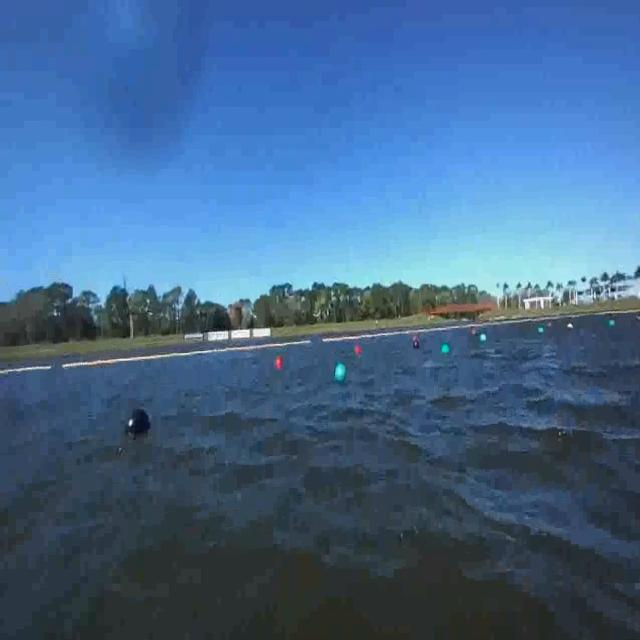black-buoy: (118, 395, 157, 453)
green-buoy: (336, 361, 348, 383), (443, 344, 451, 355), (480, 334, 488, 345)
red-buoy: (354, 346, 362, 356)
red-column-buoy: (276, 356, 284, 371)
